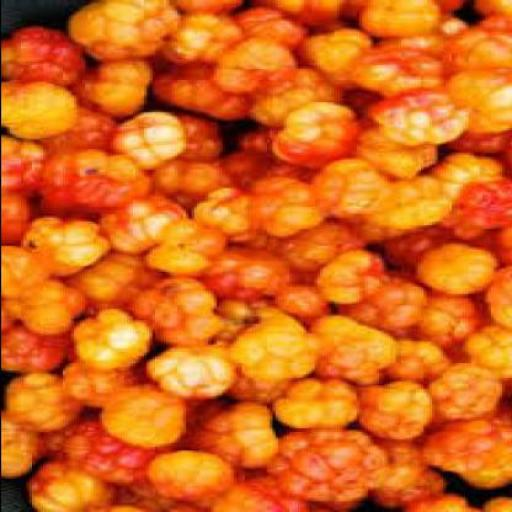biodegradable: (268, 428, 386, 506), (42, 417, 145, 486), (428, 414, 511, 491), (67, 1, 179, 58), (190, 402, 283, 469), (308, 315, 397, 382), (150, 61, 252, 117), (375, 91, 473, 148), (274, 106, 360, 167), (249, 67, 338, 125), (73, 151, 156, 212), (100, 385, 179, 449), (23, 218, 109, 276), (67, 309, 148, 370), (3, 84, 87, 142), (3, 30, 92, 84), (244, 316, 316, 382), (146, 450, 232, 504), (75, 58, 151, 119), (447, 63, 511, 135), (3, 285, 89, 337), (6, 370, 84, 426), (26, 463, 116, 511), (212, 40, 291, 94), (283, 225, 372, 272), (255, 180, 327, 238), (100, 200, 177, 254), (151, 348, 232, 399), (294, 30, 364, 89), (411, 296, 490, 348), (414, 248, 498, 296), (434, 362, 500, 420), (136, 283, 216, 330), (344, 283, 428, 327), (213, 251, 285, 302), (25, 171, 92, 225), (380, 19, 462, 63), (361, 128, 434, 177), (45, 111, 115, 162), (76, 258, 146, 309), (165, 17, 244, 62), (361, 54, 445, 96), (324, 158, 384, 216), (157, 225, 221, 277), (145, 164, 224, 206), (207, 190, 266, 246), (286, 380, 352, 430), (196, 469, 274, 511), (235, 130, 299, 181), (234, 8, 311, 50), (123, 114, 182, 168), (361, 439, 423, 490), (455, 176, 511, 231), (355, 2, 436, 39), (160, 119, 226, 164), (453, 20, 511, 71), (389, 338, 453, 384), (67, 363, 129, 410), (369, 471, 448, 506), (466, 322, 511, 383), (325, 256, 389, 298), (104, 480, 188, 511), (2, 414, 42, 478), (391, 182, 442, 232), (439, 152, 506, 190), (6, 337, 73, 374), (148, 311, 221, 344), (386, 230, 450, 264), (3, 246, 50, 291), (3, 145, 47, 192), (261, 2, 349, 24), (277, 284, 333, 318), (484, 266, 512, 333), (235, 374, 291, 404), (3, 190, 30, 252), (341, 224, 417, 246), (450, 128, 511, 155), (392, 495, 482, 511), (453, 205, 490, 238), (486, 226, 511, 272), (162, 2, 248, 15), (472, 2, 510, 24), (484, 497, 510, 512)
